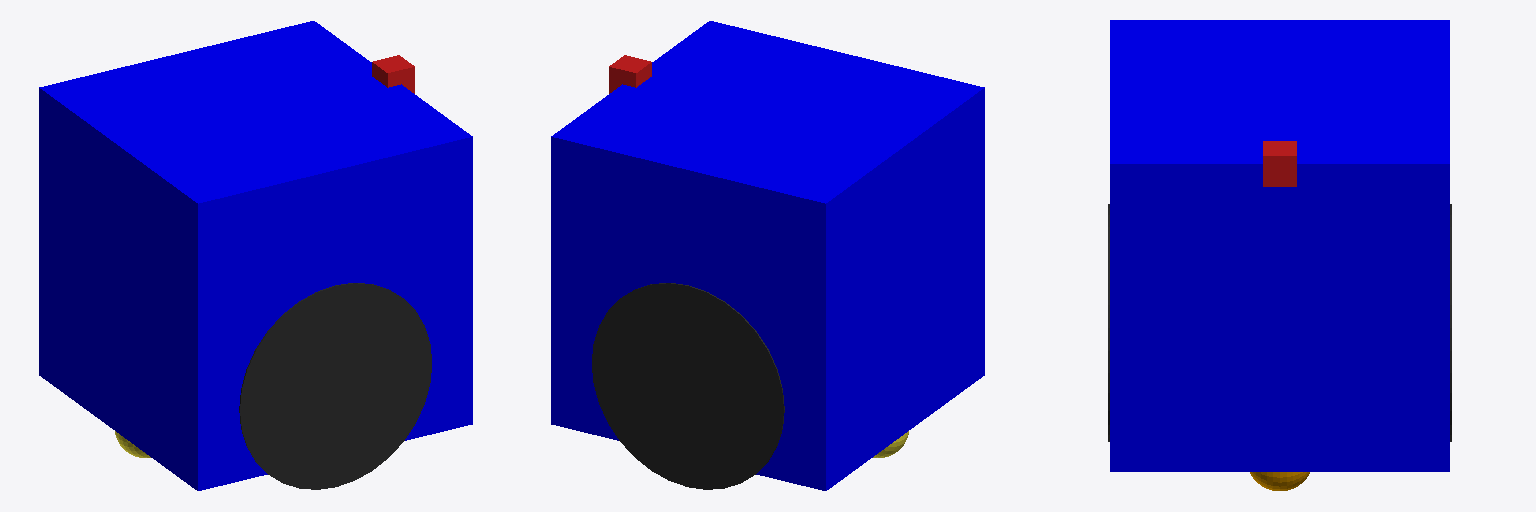
The robot description file, URDF, robot "box_bot":
<?xml version="1.0" ?>
<!-- =================================================================================== -->
<!-- |    This document was autogenerated by xacro from box_bot.xacro                  | -->
<!-- |    EDITING THIS FILE BY HAND IS NOT RECOMMENDED                                 | -->
<!-- =================================================================================== -->
<robot name="box_bot">
  <material name="black">
    <color rgba="0.0 0.0 0.0 1.0"/>
  </material>
  <material name="blue">
    <color rgba="0.0 0.0 1.0 1.0"/>
  </material>
  <material name="green">
    <color rgba="0.0 0.8 0.0 1.0"/>
  </material>
  <material name="grey">
    <color rgba="0.2 0.2 0.2 1.0"/>
  </material>
  <material name="orange">
    <color rgba="1.0 0.423529411765 0.0392156862745 1.0"/>
  </material>
  <material name="brown">
    <color rgba="0.870588235294 0.811764705882 0.764705882353 1.0"/>
  </material>
  <material name="red">
    <color rgba="0.80078125 0.12890625 0.1328125 1.0"/>
  </material>
  <material name="white">
    <color rgba="1.0 1.0 1.0 1.0"/>
  </material>

  <gazebo reference="left_wheel">
    <kp>1000.0</kp>
    <kd>1000.0</kd>
    <mu1>0.5</mu1>
    <mu2>0.5</mu2>
    <material>Gazebo/Blue</material>
  </gazebo>

  <gazebo reference="right_wheel">
    <kp>1000.0</kp>
    <kd>1000.0</kd>
    <mu1>0.5</mu1>
    <mu2>0.5</mu2>
    <material>Gazebo/Grey</material>
  </gazebo>

  <!-- ros_control plugin , no used in this robot for the moment-->
  <gazebo>
    <plugin filename="libgazebo_ros_control.so" name="gazebo_ros_control">
      <robotNamespace>/box_bot</robotNamespace>
      <robotParam>/robot_description</robotParam>
      <robotSimType>gazebo_ros_control/DefaultRobotHWSim</robotSimType>
    </plugin>
  </gazebo>

  <gazebo>
    <plugin filename="libgazebo_ros_diff_drive.so" name="differential_drive_controller">
      <ros>
        <!-- <namespace>/box_bot</namespace> -->
      </ros>

      <!-- wheels -->
      <left_joint>joint_right_wheel</left_joint>
      <right_joint>joint_left_wheel</right_joint>

      <!-- kinematics -->
      <wheel_separation>0.1</wheel_separation>
      <wheel_diameter>0.025</wheel_diameter>

      <!-- limits -->
      <max_wheel_torque>0.1</max_wheel_torque>
      <max_wheel_acceleration>1.0</max_wheel_acceleration>

      <!-- output -->
      <publish_odom>true</publish_odom>
      <publish_odom_tf>true</publish_odom_tf>

      <odometry_frame>odom</odometry_frame>
      <robot_base_frame>chassis</robot_base_frame>
    </plugin>

    <plugin name="box_bot_joint_state" filename="libgazebo_ros_joint_state_publisher.so">
      <ros>
        <remapping>~/out:=joint_states</remapping>
      </ros>
      <update_rate>30</update_rate>
      <joint_name>joint_right_wheel</joint_name>
      <joint_name>joint_left_wheel</joint_name>
    </plugin>
  </gazebo>

  <!-- imu -->
  <gazebo reference="base_link">
    <sensor name="box_bot_imu" type="imu">
      <always_on>true</always_on>
      <update_rate>30</update_rate>
      <plugin filename="libgazebo_ros_imu_sensor.so" name="box_bot_imu_plugin" >
        <ros>
          <remapping>~/out:=data</remapping>
        </ros>
      </plugin>
    </sensor>
  </gazebo>

  <!--
  <xacro:include filename="$(find box_bot_description)/robot/box_bot_propeller.xacro" />
  -->

  <link name="base_link">
  </link>

  <link name="chassis">
    <pose>0 0 0 0 0 0</pose>
    <inertial>
      <mass value="1.0"/>
      <origin rpy="0 0 0" xyz="0 0 -0.025"/>
      <inertia ixx="0.00033333333333333343" ixy="0" ixz="0" iyy="0.00033333333333333343" iyz="0" izz="0.00033333333333333343"/>
      <inertia ixx="0.000241935" ixy="0" ixz="0" iyy="0.000241935" iyz="0" izz="0.000241935"/>
    </inertial>
    <collision name="collision_chassis">
      <geometry>
        <box size="0.1 0.1 0.1"/>
      </geometry>
    </collision>
    <visual name="visual_chassis">
      <geometry>
        <box size="0.1 0.1 0.1"/>
      </geometry>
      <material name="blue"/>
    </visual>
  </link>

  <gazebo reference='chassis'>
    <material>Gazebo/Blue</material>
  </gazebo>

  <joint name="base_link_joint" type="fixed">
    <origin rpy="0 0 0" xyz="0 0 0"/>
    <parent link="base_link"/>
    <child link="chassis"/>
  </joint>

  <!-- CAMERA-->
  <link name='rgb_cam_camera_link'>
		<visual>
			<geometry>
				<box size="0.01 0.01 0.01"/>
			</geometry>
      <material name="red"/>
		</visual>
	</link>

  <gazebo reference='rgb_cam_camera_link'>
    <material>Gazebo/Red</material>
  </gazebo>

  <joint name="rgb_cam_camera_link_joint" type="fixed">
		<origin rpy="0 0 0" xyz="0.05 0 0.05"/>
		<parent link="chassis"/>
		<child link="rgb_cam_camera_link"/>
	</joint>

  <link name="rgb_cam_camera_link_frame">
  </link>

  <joint name="rgb_cam_camera_frame_joint" type="fixed">
      <origin xyz="0 0 0" rpy="0 0 0" />
      <parent link="rgb_cam_camera_link" />
      <child link="rgb_cam_camera_link_frame" />
  </joint>

  <gazebo reference="rgb_cam_camera_link_frame">
    <sensor type="camera" name="rgb_cam">
      <alwaysOn>true</alwaysOn>
      <visualize>true</visualize>
      <update_rate>10.0</update_rate>
      <camera name="rgb_cam_SP">
        <pose>0 0 0 0 0 0</pose>
        <horizontal_fov>1.3962634</horizontal_fov>
        <image>
          <width>640</width>
          <height>480</height>
          <format>R8G8B8</format>
        </image>
        <clip>
          <near>0.005</near>
          <far>20.0</far>
        </clip>
      </camera>

      <plugin name="camera_controller" filename="libgazebo_ros_camera.so">
        <cameraName>rgb_cam</cameraName>
        <imageTopicName>image_raw</imageTopicName>
          <cameraInfoTopicName>camera_info</cameraInfoTopicName>
          <frameName>rgb_cam_camera_link_frame</frameName>
        <hackBaseline>0.07</hackBaseline>
        <distortionK1>0.0</distortionK1>
        <distortionK2>0.0</distortionK2>
        <distortionK3>0.0</distortionK3>
        <distortionT1>0.0</distortionT1>
        <distortionT2>0.0</distortionT2>
      </plugin>
    </sensor>
  </gazebo>

  <link name="right_wheel">
    <inertial>
      <mass value="0.2"/>
      <origin rpy="0 1.5707 1.5707" xyz="0 0 0"/>
      <inertia ixx="3.126666666666667e-05" ixy="0" ixz="0" iyy="3.126666666666667e-05" iyz="0" izz="6.250000000000001e-05"/>
    </inertial>
    <collision name="link_right_wheel_collision">
      <origin rpy="0 1.5707 1.5707" xyz="0 0 0"/>
      <geometry>
        <cylinder length="0.001" radius="0.035"/>
      </geometry>
    </collision>
    <visual name="link_right_wheel_visual">
      <origin rpy="0 1.5707 1.5707" xyz="0 0 0"/>
      <geometry>
        <cylinder length="0.001" radius="0.035"/>
      </geometry>
      <material name="grey"/>
    </visual>
  </link>

  <joint name="joint_right_wheel" type="continuous">
    <origin rpy="0 0 0" xyz="0 0.05 -0.025"/>
    <child link="right_wheel"/>
    <parent link="chassis"/>
    <axis rpy="0 0 0" xyz="0 1 0"/>
    <limit effort="10000" velocity="1000"/>
    <joint_properties damping="1.0" friction="1.0"/>
  </joint>

  <link name="left_wheel">
    <inertial>
      <mass value="0.2"/>
      <origin rpy="0 1.5707 1.5707" xyz="0 0 0"/>
      <inertia ixx="3.126666666666667e-05" ixy="0" ixz="0" iyy="3.126666666666667e-05" iyz="0" izz="6.250000000000001e-05"/>
    </inertial>
    <collision name="link_right_wheel_collision">
      <origin rpy="0 1.5707 1.5707" xyz="0 0 0"/>
      <geometry>
        <cylinder length="0.001" radius="0.035"/>
      </geometry>
    </collision>
    <visual name="link_right_wheel_visual">
      <origin rpy="0 1.5707 1.5707" xyz="0 0 0"/>
      <geometry>
        <cylinder length="0.001" radius="0.035"/>
      </geometry>
      <material name="grey"/>
    </visual>
  </link>

  <joint name="joint_left_wheel" type="continuous">
    <origin rpy="0 0 0" xyz="0 -0.05 -0.025"/>
    <child link="left_wheel"/>
    <parent link="chassis"/>
    <axis rpy="0 0 0" xyz="0 1 0"/>
    <limit effort="10000" velocity="1000"/>
    <joint_properties damping="1.0" friction="1.0"/>
  </joint>

  <!-- CASTER FRONT-->
  <link name="front_yaw_link">
    <inertial>
      <mass value="0.001"/>
      <origin rpy="0 1.5707 1.5707" xyz="0 0 0"/>
      <inertia ixx="5.145833333333334e-09" ixy="0" ixz="0" iyy="5.145833333333334e-09" iyz="0" izz="1.0125000000000003e-08"/>
    </inertial>
    <collision name="link_right_wheel_collision">
      <origin rpy="0 1.5707 1.5707" xyz="0 0 0"/>
      <geometry>
        <cylinder length="0.001" radius="0.0045000000000000005"/>
      </geometry>
    </collision>
  </link>

  <joint name="front_yaw_joint" type="continuous">
    <origin rpy="0 0 0" xyz="0.04 0 -0.05"/>
    <parent link="chassis"/>
    <child link="front_yaw_link"/>
    <axis xyz="0 0 1"/>
    <limit effort="1000.0" velocity="100.0"/>
    <dynamics damping="0.0" friction="0.1"/>
  </joint>

  <transmission name="front_yaw_joint_trans">
    <type>transmission_interface/SimpleTransmission</type>
    <joint name="front_yaw_joint">
      <hardwareInterface>EffortJointInterface</hardwareInterface>
    </joint>
    <actuator name="front_yaw_jointMotor">
      <hardwareInterface>EffortJointInterface</hardwareInterface>
      <mechanicalReduction>1</mechanicalReduction>
    </actuator>
  </transmission>

  <link name="front_roll_link">
    <inertial>
      <mass value="0.001"/>
      <origin rpy="0 1.5707 1.5707" xyz="0 0 0"/>
      <inertia ixx="5.145833333333334e-09" ixy="0" ixz="0" iyy="5.145833333333334e-09" iyz="0" izz="1.0125000000000003e-08"/>
    </inertial>
    <collision name="link_right_wheel_collision">
      <origin rpy="0 1.5707 1.5707" xyz="0 0 0"/>
      <geometry>
        <cylinder length="0.001" radius="0.0045000000000000005"/>
      </geometry>
    </collision>
  </link>

  <joint name="front_roll_joint" type="continuous">
    <origin rpy="0 0 0" xyz="0 0 0"/>
    <parent link="front_yaw_link"/>
    <child link="front_roll_link"/>
    <axis xyz="1 0 0"/>
    <limit effort="1000.0" velocity="100.0"/>
    <dynamics damping="0.0" friction="0.1"/>
  </joint>

  <transmission name="front_roll_joint_trans">
    <type>transmission_interface/SimpleTransmission</type>
    <joint name="front_roll_joint">
      <hardwareInterface>EffortJointInterface</hardwareInterface>
    </joint>
    <actuator name="front_roll_jointMotor">
      <hardwareInterface>EffortJointInterface</hardwareInterface>
      <mechanicalReduction>1</mechanicalReduction>
    </actuator>
  </transmission>

  <link name="front_pitch_link">
    <inertial>
      <mass value="0.001"/>
      <origin rpy="0 1.5707 1.5707" xyz="0 0 0"/>
      <inertia ixx="4e-08" ixy="0" ixz="0" iyy="4e-08" iyz="0" izz="4e-08"/>
    </inertial>
    <collision name="front_collision">
      <origin rpy="0 1.5707 1.5707" xyz="0 0 0"/>
      <geometry>
        <sphere radius="0.01"/>
      </geometry>
    </collision>
    <visual name="front_visual">
      <origin rpy="0 1.5707 1.5707" xyz="0 0 0"/>
      <geometry>
        <sphere radius="0.01"/>
      </geometry>
    </visual>
  </link>

  <joint name="front_pitch_joint" type="continuous">
    <origin rpy="0 0 0" xyz="0 0 0"/>
    <parent link="front_roll_link"/>
    <child link="front_pitch_link"/>
    <axis xyz="0 1 0"/>
    <limit effort="1000.0" velocity="100.0"/>
    <dynamics damping="0.0" friction="0.1"/>
  </joint>

  <transmission name="front_pitch_joint_trans">
    <type>transmission_interface/SimpleTransmission</type>
    <joint name="front_pitch_joint">
      <hardwareInterface>EffortJointInterface</hardwareInterface>
    </joint>
    <actuator name="front_pitch_jointMotor">
      <hardwareInterface>EffortJointInterface</hardwareInterface>
      <mechanicalReduction>1</mechanicalReduction>
    </actuator>
  </transmission>

  <gazebo reference="front_pitch_link">
    <kp>1000000000000000000000000000.0</kp>
    <kd>1000000000000000000000000000.0</kd>
    <mu1>0.5</mu1>
    <mu2>0.5</mu2>
    <material>Gazebo/Green</material>
  </gazebo>

  <!-- CASTER FRONT-->
  <link name="back_yaw_link">
    <inertial>
      <mass value="0.001"/>
      <origin rpy="0 1.5707 1.5707" xyz="0 0 0"/>
      <inertia ixx="5.145833333333334e-09" ixy="0" ixz="0" iyy="5.145833333333334e-09" iyz="0" izz="1.0125000000000003e-08"/>
    </inertial>
    <collision name="link_right_wheel_collision">
      <origin rpy="0 1.5707 1.5707" xyz="0 0 0"/>
      <geometry>
        <cylinder length="0.001" radius="0.0045000000000000005"/>
      </geometry>
    </collision>
  </link>

  <joint name="back_yaw_joint" type="continuous">
    <origin rpy="0 0 0" xyz="-0.04 0 -0.05"/>
    <parent link="chassis"/>
    <child link="back_yaw_link"/>
    <axis xyz="0 0 1"/>
    <limit effort="1000.0" velocity="100.0"/>
    <dynamics damping="0.0" friction="0.1"/>
  </joint>

  <transmission name="back_yaw_joint_trans">
    <type>transmission_interface/SimpleTransmission</type>
    <joint name="back_yaw_joint">
      <hardwareInterface>EffortJointInterface</hardwareInterface>
    </joint>
    <actuator name="back_yaw_jointMotor">
      <hardwareInterface>EffortJointInterface</hardwareInterface>
      <mechanicalReduction>1</mechanicalReduction>
    </actuator>
  </transmission>

  <link name="back_roll_link">
    <inertial>
      <mass value="0.001"/>
      <origin rpy="0 1.5707 1.5707" xyz="0 0 0"/>
      <inertia ixx="5.145833333333334e-09" ixy="0" ixz="0" iyy="5.145833333333334e-09" iyz="0" izz="1.0125000000000003e-08"/>
    </inertial>
    <collision name="link_right_wheel_collision">
      <origin rpy="0 1.5707 1.5707" xyz="0 0 0"/>
      <geometry>
        <cylinder length="0.001" radius="0.0045000000000000005"/>
      </geometry>
    </collision>
  </link>

  <joint name="back_roll_joint" type="continuous">
    <origin rpy="0 0 0" xyz="0 0 0"/>
    <parent link="back_yaw_link"/>
    <child link="back_roll_link"/>
    <axis xyz="1 0 0"/>
    <limit effort="1000.0" velocity="100.0"/>
    <dynamics damping="0.0" friction="0.1"/>
  </joint>

  <transmission name="back_roll_joint_trans">
    <type>transmission_interface/SimpleTransmission</type>
    <joint name="back_roll_joint">
      <hardwareInterface>EffortJointInterface</hardwareInterface>
    </joint>
    <actuator name="back_roll_jointMotor">
      <hardwareInterface>EffortJointInterface</hardwareInterface>
      <mechanicalReduction>1</mechanicalReduction>
    </actuator>
  </transmission>

  <link name="back_pitch_link">
    <inertial>
      <mass value="0.001"/>
      <origin rpy="0 1.5707 1.5707" xyz="0 0 0"/>
      <inertia ixx="4e-08" ixy="0" ixz="0" iyy="4e-08" iyz="0" izz="4e-08"/>
    </inertial>
    <collision name="back_collision">
      <origin rpy="0 1.5707 1.5707" xyz="0 0 0"/>
      <geometry>
        <sphere radius="0.01"/>
      </geometry>
    </collision>
    <visual name="back_visual">
      <origin rpy="0 1.5707 1.5707" xyz="0 0 0"/>
      <geometry>
        <sphere radius="0.01"/>
      </geometry>
    </visual>
  </link>

  <joint name="back_pitch_joint" type="continuous">
    <origin rpy="0 0 0" xyz="0 0 0"/>
    <parent link="back_roll_link"/>
    <child link="back_pitch_link"/>
    <axis xyz="0 1 0"/>
    <limit effort="1000.0" velocity="100.0"/>
    <dynamics damping="0.0" friction="0.1"/>
  </joint>

  <transmission name="back_pitch_joint_trans">
    <type>transmission_interface/SimpleTransmission</type>
    <joint name="back_pitch_joint">
      <hardwareInterface>EffortJointInterface</hardwareInterface>
    </joint>
    <actuator name="back_pitch_jointMotor">
      <hardwareInterface>EffortJointInterface</hardwareInterface>
      <mechanicalReduction>1</mechanicalReduction>
    </actuator>
  </transmission>

  <gazebo reference="back_pitch_link">
    <kp>1000000000000000000000000000.0</kp>
    <kd>1000000000000000000000000000.0</kd>
    <mu1>0.5</mu1>
    <mu2>0.5</mu2>
    <material>Gazebo/Green</material>
  </gazebo>
</robot>

--- Render facts (derived) ---
Views: 3 orthographic renders of the robot side by side, from view 1: azimuth 30°, elevation 25°; view 2: azimuth 150°, elevation 25°; view 3: azimuth 270°, elevation 25°.
Model box_bot with 12 links and 11 joints (8 continuous, 3 fixed), rooted at base_link, posed all joints at 0.
Visible links, largest first — view 1: chassis, left_wheel, rgb_cam_camera_link; view 2: chassis, right_wheel, rgb_cam_camera_link; view 3: chassis, rgb_cam_camera_link, front_pitch_link.
Boxes of the visible links, <box> form: chassis: <box>39,21,472,490</box>; left_wheel: <box>239,283,431,489</box>; rgb_cam_camera_link: <box>372,55,414,93</box>; chassis: <box>551,21,984,490</box>; right_wheel: <box>592,283,784,489</box>; rgb_cam_camera_link: <box>609,55,651,93</box>; chassis: <box>1110,20,1449,471</box>; rgb_cam_camera_link: <box>1263,141,1296,186</box>; front_pitch_link: <box>1250,472,1309,490</box>.
Bounding box of the posed robot: 0.105 × 0.101 × 0.115 m (x, y, z).
Geometry: primitives only (box / cylinder / sphere), no mesh files.